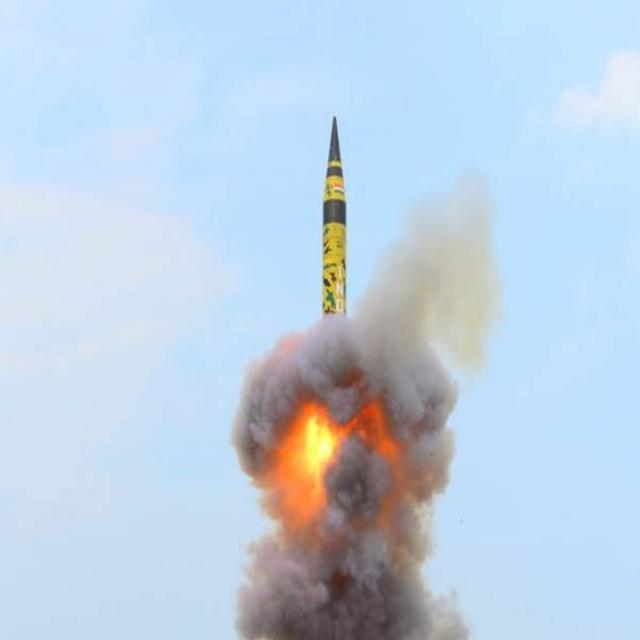missile: (318, 103, 352, 333)
